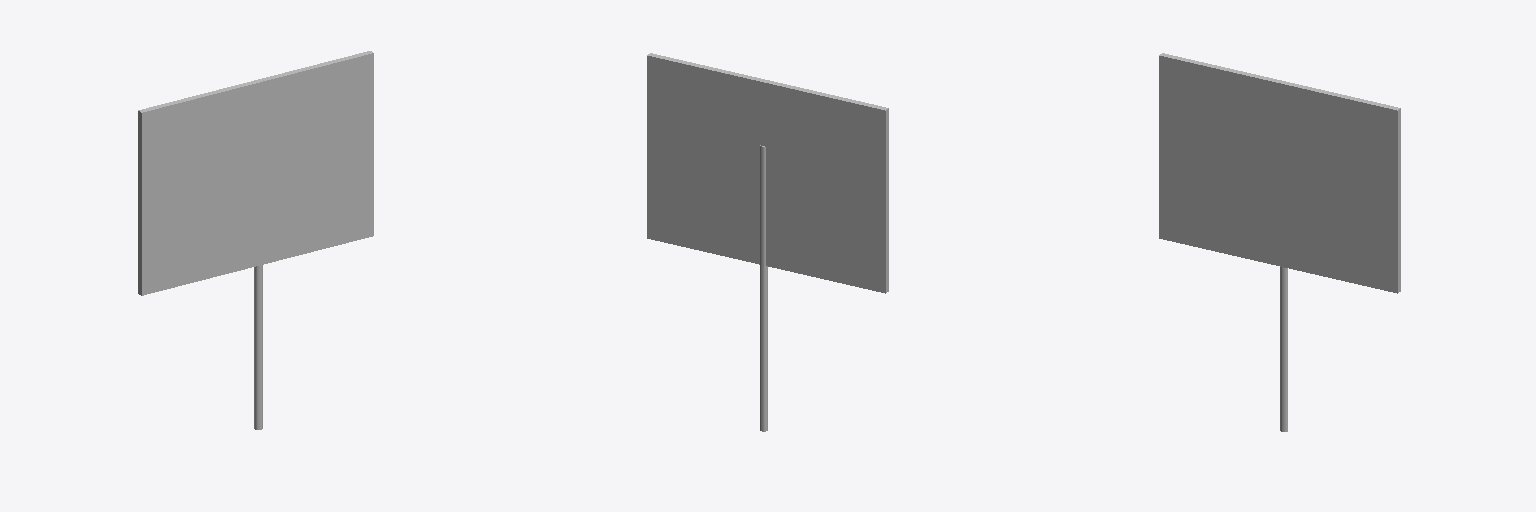
The model's file is board_9.obj.
3 views of the same model, side by side, from view 1: azimuth 30°, elevation 25°; view 2: azimuth 150°, elevation 25°; view 3: azimuth 330°, elevation 25° (orthographic).
Parts seen in each view (by area): view 1: Cube.017_Cube.018, Cylinder.017; view 2: Cube.017_Cube.018, Cylinder.017; view 3: Cube.017_Cube.018, Cylinder.017.
Boxes of the visible parts, box(x1,y1,x2,y2) form: Cube.017_Cube.018: box(138, 51, 373, 295); Cylinder.017: box(254, 265, 262, 429); Cube.017_Cube.018: box(647, 53, 888, 293); Cylinder.017: box(760, 145, 767, 431); Cube.017_Cube.018: box(1159, 53, 1400, 293); Cylinder.017: box(1280, 267, 1287, 431).
Size of the model in its own units: 0.3464 by 0.4895 by 0.0167.